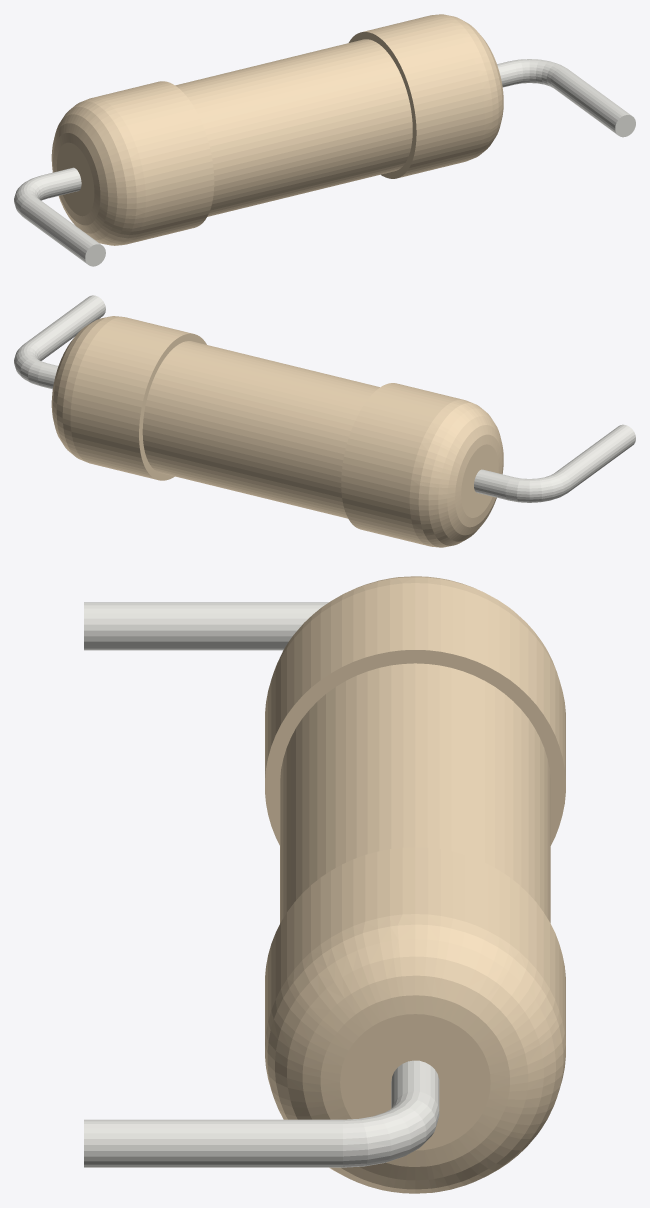
Rendered from R_Axial_DIN0516_L15.5mm_D5.0mm_P20.32mm_Horizontal.glb.
3 renders of one model, top to bottom at view 1: azimuth 30°, elevation 25°; view 2: azimuth 150°, elevation 25°; view 3: azimuth 270°, elevation 25°, orthographic. The views are drawn at different scales.
Parts seen in each view (by area): view 1: Shape_IndexedFaceSet.004, Shape_IndexedFaceSet.008, Shape_IndexedFaceSet, Shape_IndexedFaceSet.010, Shape_IndexedFaceSet.001, Shape_IndexedFaceSet.009, Shape_IndexedFaceSet.015, Shape_IndexedFaceSet.012, Shape_IndexedFaceSet.002, Shape_IndexedFaceSet.007, Shape_IndexedFaceSet.013, Shape_IndexedFaceSet.014 (+3 smaller); view 2: Shape_IndexedFaceSet.004, Shape_IndexedFaceSet.008, Shape_IndexedFaceSet, Shape_IndexedFaceSet.010, Shape_IndexedFaceSet.001, Shape_IndexedFaceSet.015, Shape_IndexedFaceSet.009, Shape_IndexedFaceSet.012, Shape_IndexedFaceSet.014, Shape_IndexedFaceSet.002, Shape_IndexedFaceSet.007, Shape_IndexedFaceSet.013 (+1 smaller); view 3: Shape_IndexedFaceSet.004, Shape_IndexedFaceSet.001, Shape_IndexedFaceSet, Shape_IndexedFaceSet.008, Shape_IndexedFaceSet.009, Shape_IndexedFaceSet.003, Shape_IndexedFaceSet.015, Shape_IndexedFaceSet.006, Shape_IndexedFaceSet.007, Shape_IndexedFaceSet.010, Shape_IndexedFaceSet.005.
Part boxes in pixels (x1=…): Shape_IndexedFaceSet.004: x1=175, y1=39, x2=412, y2=216; Shape_IndexedFaceSet.008: x1=92, y1=81, x2=214, y2=244; Shape_IndexedFaceSet: x1=363, y1=15, x2=484, y2=177; Shape_IndexedFaceSet.010: x1=51, y1=98, x2=145, y2=245; Shape_IndexedFaceSet.001: x1=432, y1=14, x2=503, y2=159; Shape_IndexedFaceSet.009: x1=550, y1=67, x2=631, y2=134; Shape_IndexedFaceSet.015: x1=20, y1=197, x2=100, y2=263; Shape_IndexedFaceSet.012: x1=56, y1=142, x2=94, y2=216; Shape_IndexedFaceSet.002: x1=348, y1=32, x2=416, y2=178; Shape_IndexedFaceSet.007: x1=510, y1=59, x2=565, y2=87; Shape_IndexedFaceSet.013: x1=42, y1=167, x2=81, y2=198; Shape_IndexedFaceSet.014: x1=14, y1=175, x2=49, y2=215; Shape_IndexedFaceSet.004: x1=142, y1=341, x2=379, y2=518; Shape_IndexedFaceSet.008: x1=341, y1=383, x2=462, y2=545; Shape_IndexedFaceSet: x1=70, y1=317, x2=193, y2=479; Shape_IndexedFaceSet.010: x1=409, y1=399, x2=503, y2=547; Shape_IndexedFaceSet.001: x1=51, y1=316, x2=121, y2=461; Shape_IndexedFaceSet.015: x1=555, y1=424, x2=635, y2=491; Shape_IndexedFaceSet.009: x1=25, y1=295, x2=105, y2=360; Shape_IndexedFaceSet.012: x1=461, y1=444, x2=498, y2=517; Shape_IndexedFaceSet.014: x1=505, y1=472, x2=571, y2=502; Shape_IndexedFaceSet.002: x1=139, y1=333, x2=206, y2=480; Shape_IndexedFaceSet.007: x1=14, y1=342, x2=45, y2=385; Shape_IndexedFaceSet.013: x1=474, y1=469, x2=513, y2=500; Shape_IndexedFaceSet.004: x1=280, y1=663, x2=550, y2=923; Shape_IndexedFaceSet.001: x1=265, y1=914, x2=565, y2=1193; Shape_IndexedFaceSet: x1=265, y1=847, x2=565, y2=1042; Shape_IndexedFaceSet.008: x1=265, y1=583, x2=565, y2=778; Shape_IndexedFaceSet.009: x1=84, y1=1119, x2=342, y2=1167; Shape_IndexedFaceSet.003: x1=340, y1=1014, x2=490, y2=1150; Shape_IndexedFaceSet.015: x1=84, y1=602, x2=328, y2=650; Shape_IndexedFaceSet.006: x1=265, y1=650, x2=565, y2=845; Shape_IndexedFaceSet.007: x1=343, y1=1091, x2=439, y2=1167; Shape_IndexedFaceSet.010: x1=272, y1=576, x2=557, y2=677; Shape_IndexedFaceSet.005: x1=391, y1=1060, x2=439, y2=1109.
Bounding box in the file's own units: 8.31 × 1.97 × 3.15.
